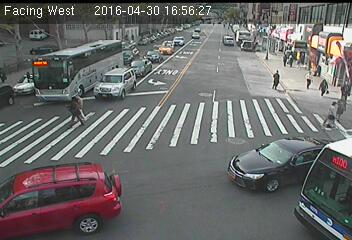neg: (106, 142, 135, 181), (26, 174, 47, 201), (74, 39, 91, 61), (210, 60, 225, 80), (326, 150, 341, 170), (282, 157, 296, 176), (324, 188, 338, 205), (256, 30, 267, 46), (241, 19, 252, 34), (204, 14, 215, 29), (131, 27, 142, 41), (164, 33, 173, 46), (183, 14, 191, 24)
pos: (60, 94, 85, 128), (320, 100, 343, 129), (331, 94, 351, 122), (268, 68, 286, 92), (301, 69, 317, 90), (316, 76, 332, 96), (338, 79, 351, 102), (288, 54, 298, 68), (280, 54, 290, 66)
